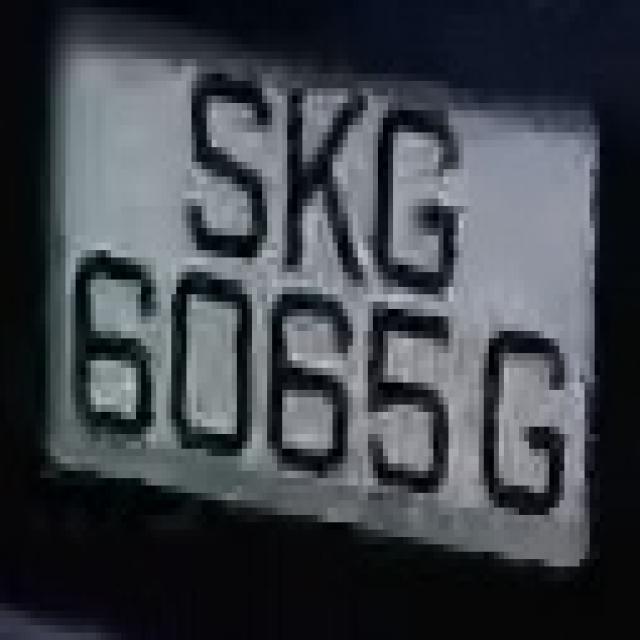0: (156, 250, 252, 486)
5: (358, 272, 463, 522)
6: (60, 228, 162, 456), (262, 272, 353, 508)
G: (464, 280, 580, 530), (358, 59, 458, 338)
K: (267, 59, 358, 309)
S: (166, 36, 277, 302)
